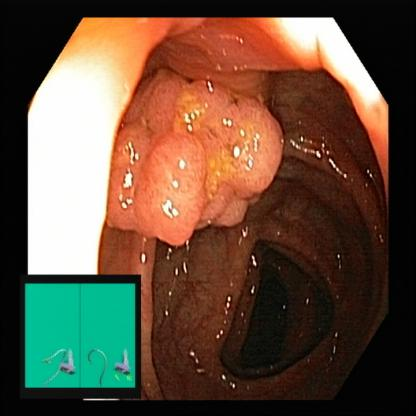Labels: (24, 272, 141, 396)
Polyps: (125, 76, 288, 234)
